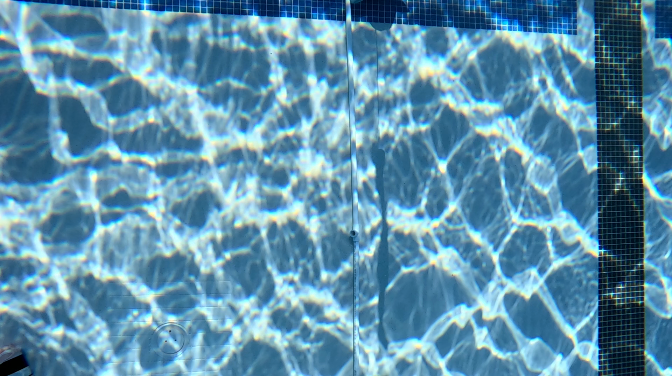sandbag: (0, 347, 33, 374)
